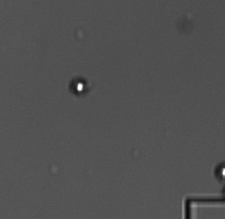Living Cell: (69, 76, 92, 97)
